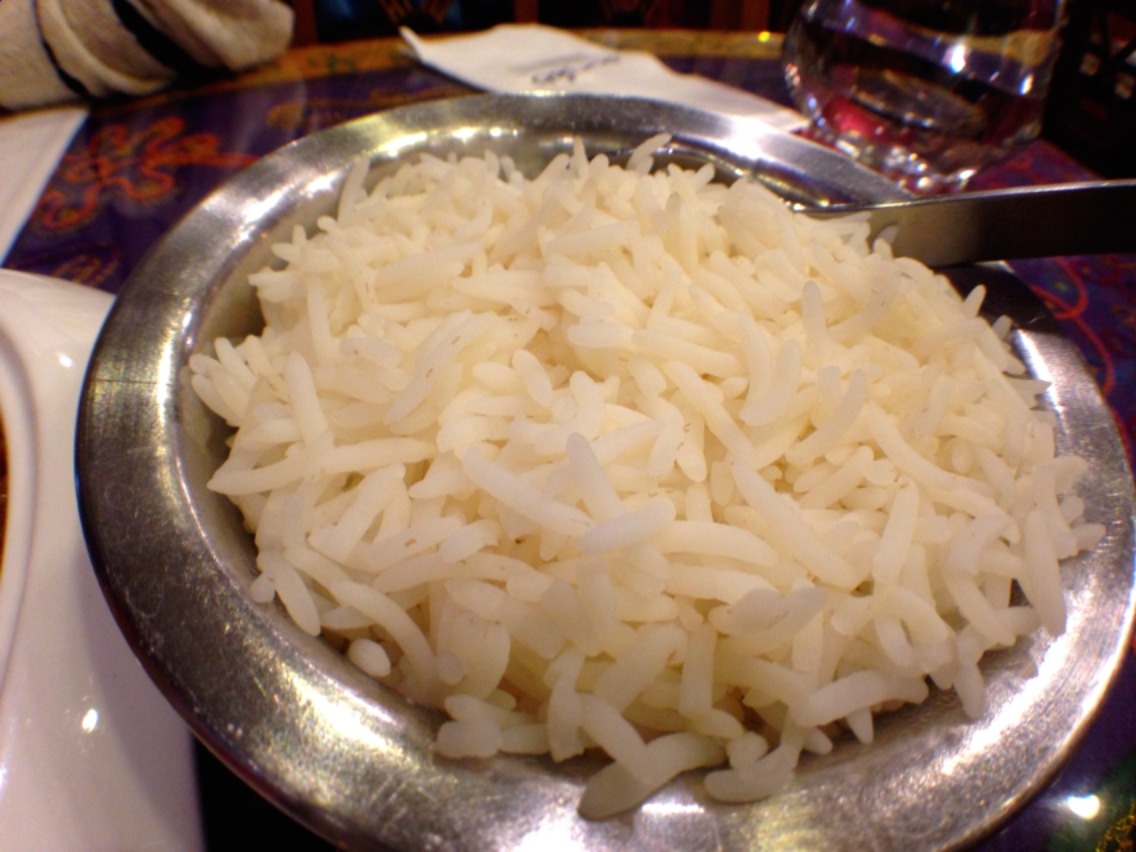plain rice: (260, 150, 1028, 744)
